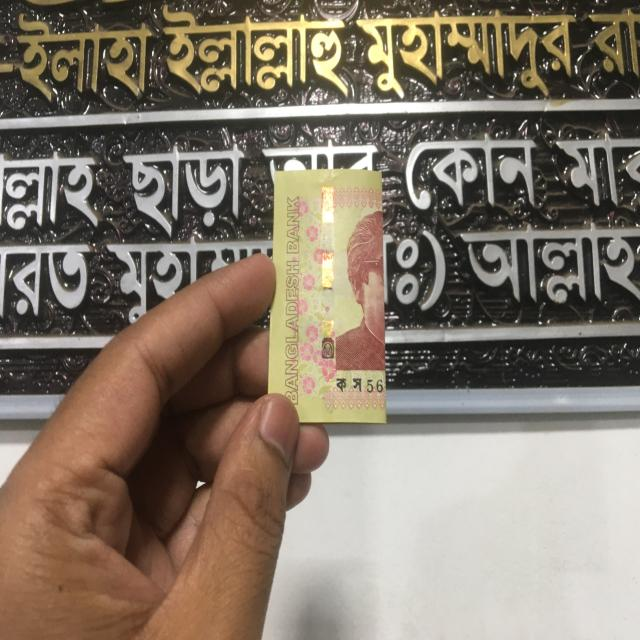Taka: (277, 167, 386, 422)
